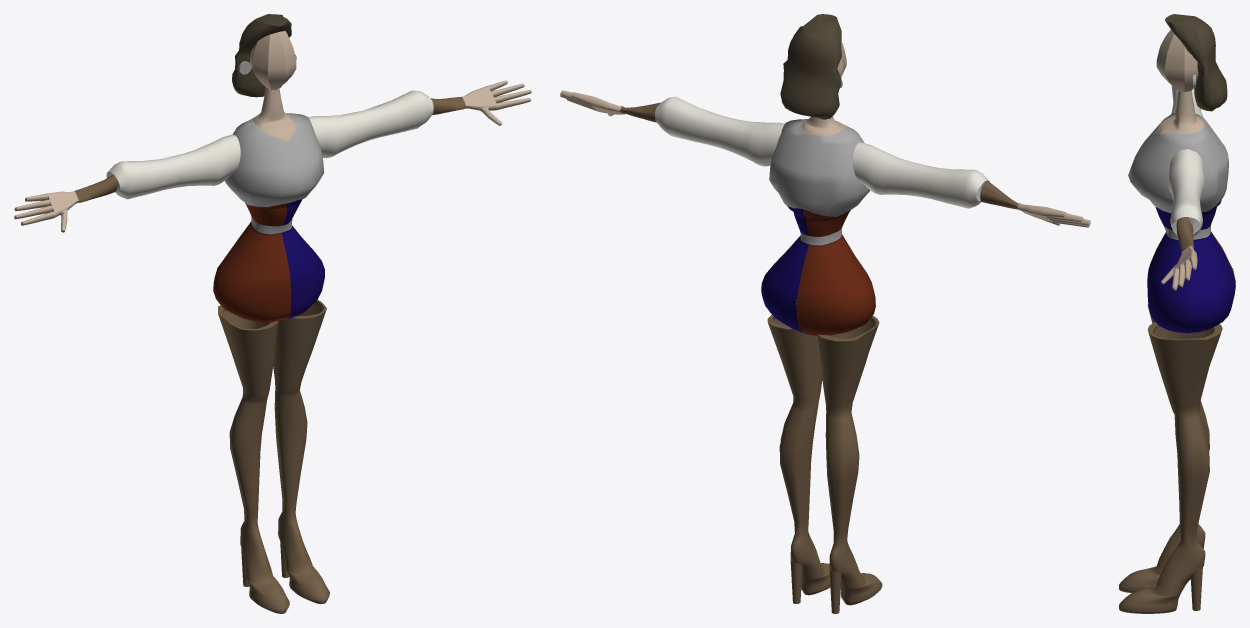
The model's file is main_char.fbx.
3 renders of one model, left to right at view 1: azimuth 30°, elevation 25°; view 2: azimuth 150°, elevation 25°; view 3: azimuth 270°, elevation 25°, orthographic. The views are drawn at different scales.
Visible parts, largest first — view 1: pCube6, pCylinder17, pCylinder3, pCylinder18, pCylinder16, pCylinder20, pCylinder6; view 2: pCube6, pCylinder17, pCylinder3, pCylinder18, pCylinder16, pCylinder6; view 3: pCube6, pCylinder3, pCylinder16, pCylinder6, pCylinder20, pCylinder17, pCylinder4, pCylinder18.
Boxes of the visible parts, x1,y1,x2,y2 form: pCube6: (213, 87, 324, 323); pCylinder17: (218, 305, 289, 613); pCylinder3: (273, 299, 329, 604); pCylinder18: (14, 134, 240, 232); pCylinder16: (308, 80, 531, 158); pCylinder20: (250, 31, 296, 90); pCylinder6: (232, 14, 291, 97); pCube6: (761, 116, 875, 335); pCylinder17: (817, 315, 882, 605); pCylinder3: (767, 315, 830, 595); pCylinder18: (853, 142, 1090, 227); pCylinder16: (560, 90, 784, 166); pCylinder6: (780, 14, 841, 119); pCube6: (1128, 90, 1235, 333); pCylinder3: (1119, 322, 1222, 613); pCylinder16: (1161, 149, 1204, 290); pCylinder6: (1165, 14, 1227, 111); pCylinder20: (1156, 30, 1198, 91); pCylinder17: (1119, 304, 1209, 592); pCylinder4: (1190, 567, 1202, 610); pCylinder18: (1171, 85, 1203, 117).
Size of the model in its own units: 6.86 by 7.19 by 1.31.
